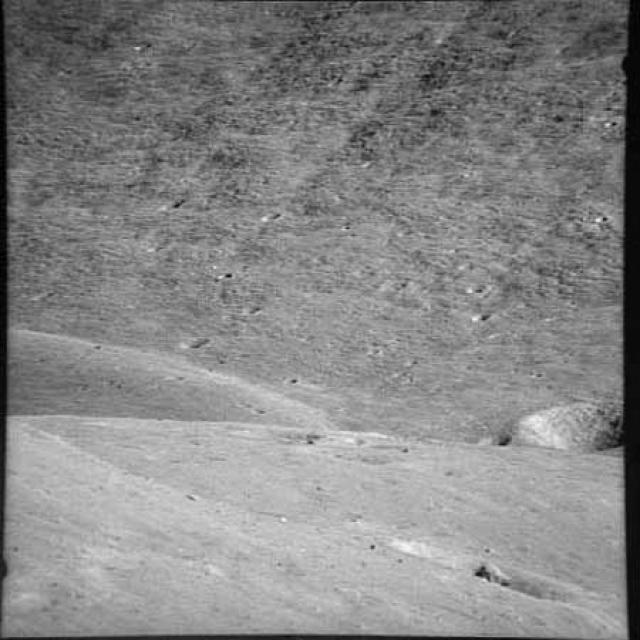crater: (395, 526, 590, 617), (210, 414, 427, 464), (511, 388, 639, 470)
rock: (462, 556, 518, 591)
